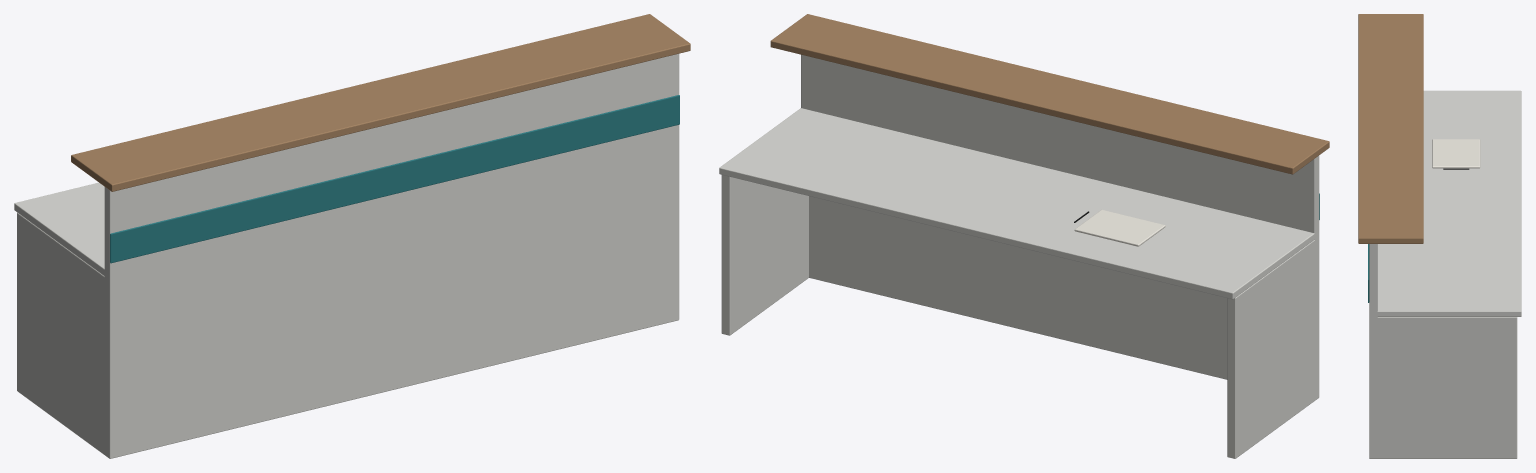
Rendered from PROP_Counter_Reception.glb.
3 views of the same model, side by side, from view 1: azimuth 30°, elevation 25°; view 2: azimuth 150°, elevation 25°; view 3: azimuth 270°, elevation 25° (orthographic). The views are drawn at different scales.
Parts seen in each view (by area): view 1: PROP_Counter_Reception_Mesh; view 2: PROP_Counter_Reception_Mesh; view 3: PROP_Counter_Reception_Mesh.
Part boxes in pixels (x1=…): PROP_Counter_Reception_Mesh: x1=14, y1=14, x2=690, y2=458; PROP_Counter_Reception_Mesh: x1=719, y1=14, x2=1329, y2=458; PROP_Counter_Reception_Mesh: x1=1358, y1=14, x2=1521, y2=458.
Size of what is drawn, in the model's own units: 2.44 by 1.13 by 0.75.
